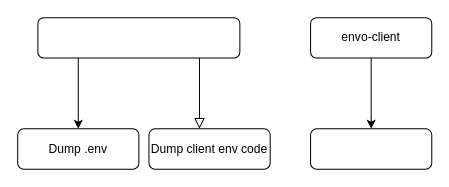
The diagram is 449 pixels wide and 187 high, and some of its shapes have lost their labels. The shapes that lost their labels are listed below. From the top down, each one's centre as x and y in pixels, then its label:
(x=138, y=37): envo
(x=371, y=148): Load .env using
